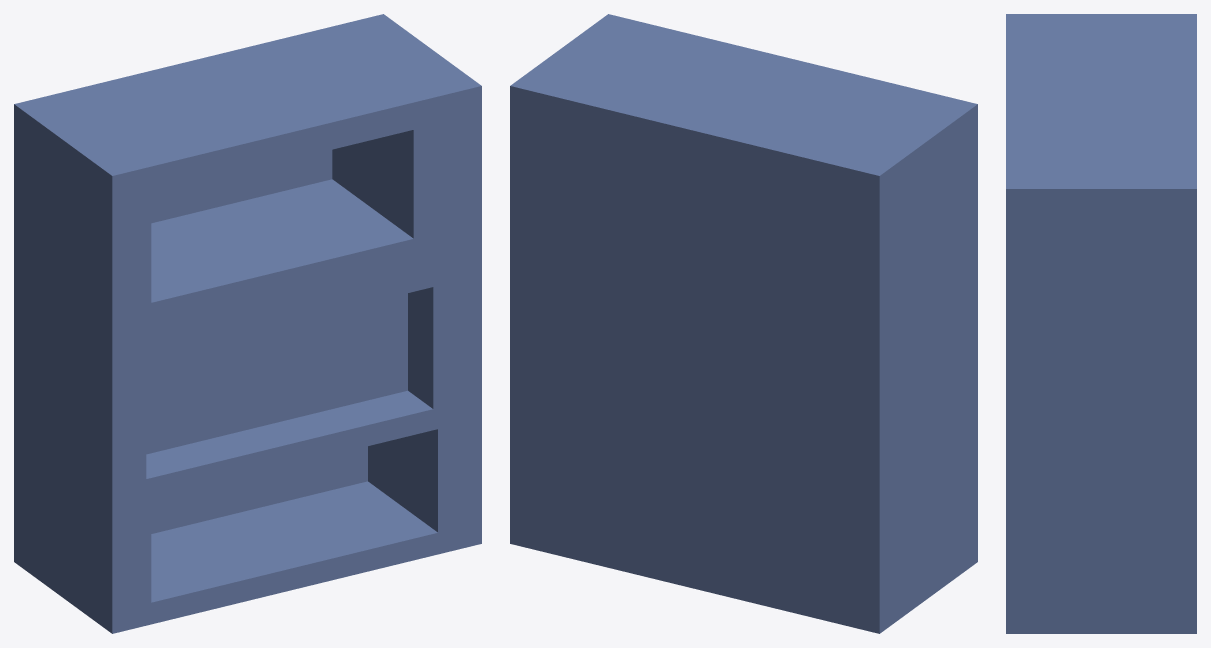
Rendered from pro149.glb.
The picture shows the model from 3 angles, left to right: view 1: azimuth 30°, elevation 25°; view 2: azimuth 150°, elevation 25°; view 3: azimuth 270°, elevation 25°; orthographic projection. The views are drawn at different scales.
Visible parts, largest first — view 1: Mesh_Mesh_head_geo.001_lambert2SG.001; view 2: Mesh_Mesh_head_geo.001_lambert2SG.001; view 3: Mesh_Mesh_head_geo.001_lambert2SG.001.
Part boxes in pixels (x1=…): Mesh_Mesh_head_geo.001_lambert2SG.001: x1=14, y1=14, x2=481, y2=633; Mesh_Mesh_head_geo.001_lambert2SG.001: x1=510, y1=14, x2=977, y2=633; Mesh_Mesh_head_geo.001_lambert2SG.001: x1=1006, y1=14, x2=1196, y2=633.
Size of the model in its own units: 76 by 90 by 35.
